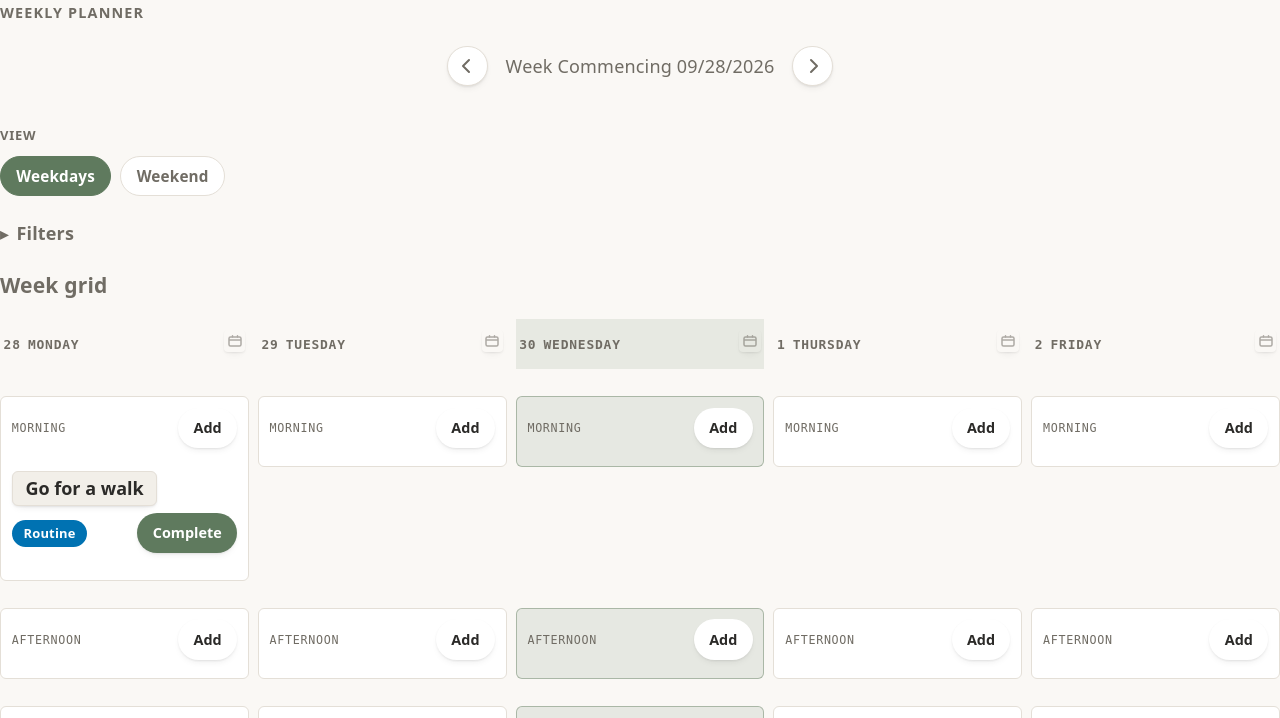
Scenario: WeeklyPlanner › FRONTEND-015-AC-04: moving an occurrence off-tab never auto-switches the active tab › stays on the Weekdays tab after moving an occurrence to Saturday
The width and height of the screenshot is (1280, 718).
Click the radio button labelled "Weekdays" at coordinates (56, 176), box [0,156,111,196]
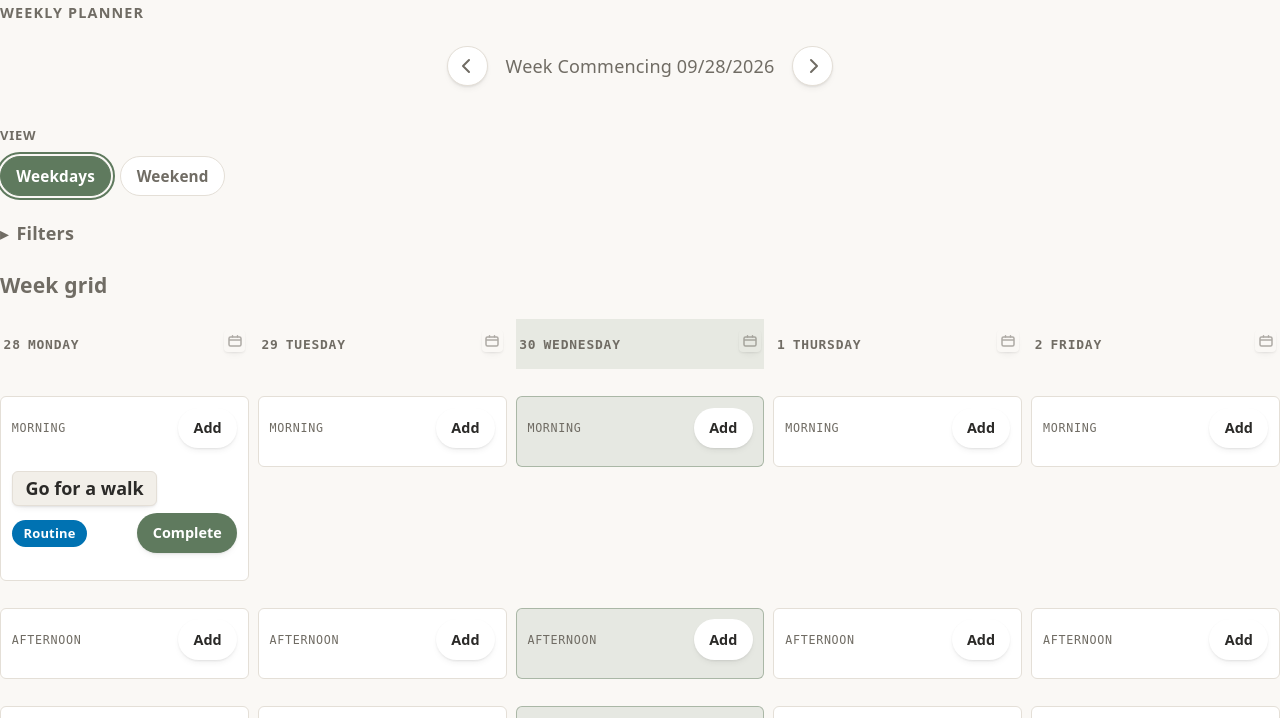
Click the button "Go for a walk" at coordinates (85, 488), box [12,470,157,506]
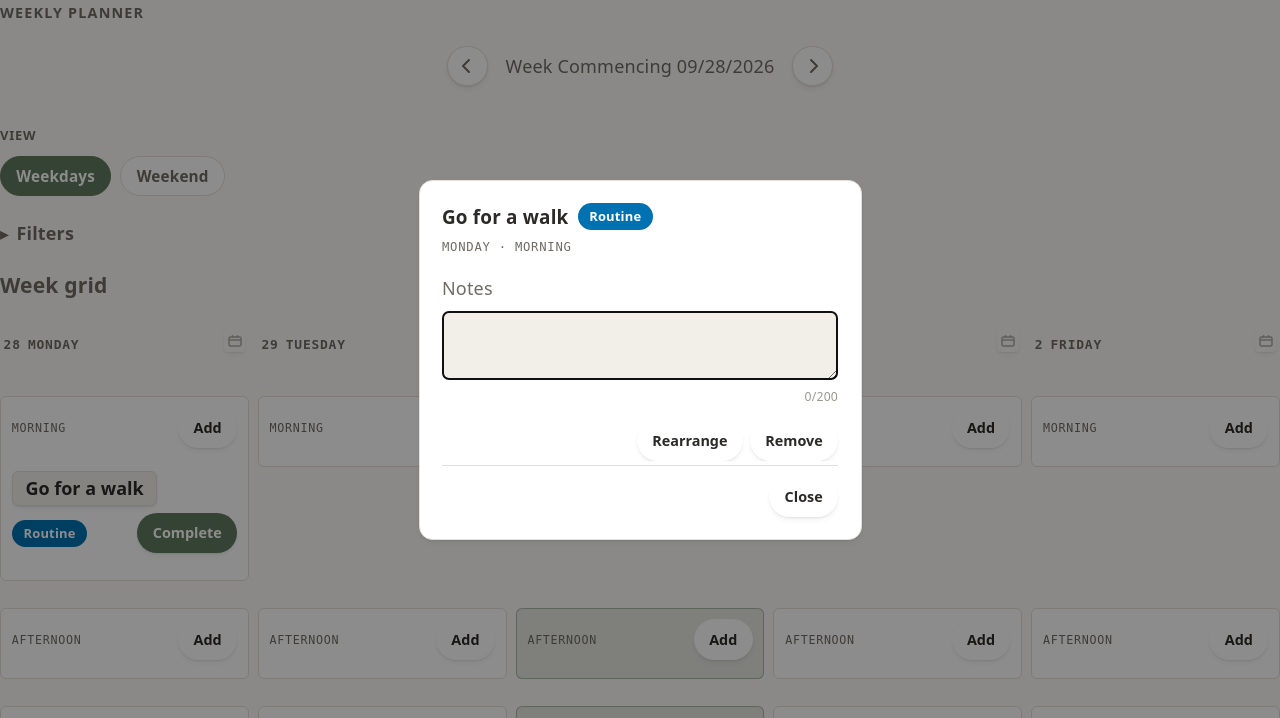
Click the button "Rearrange" at coordinates (690, 441), box [637,420,743,461]
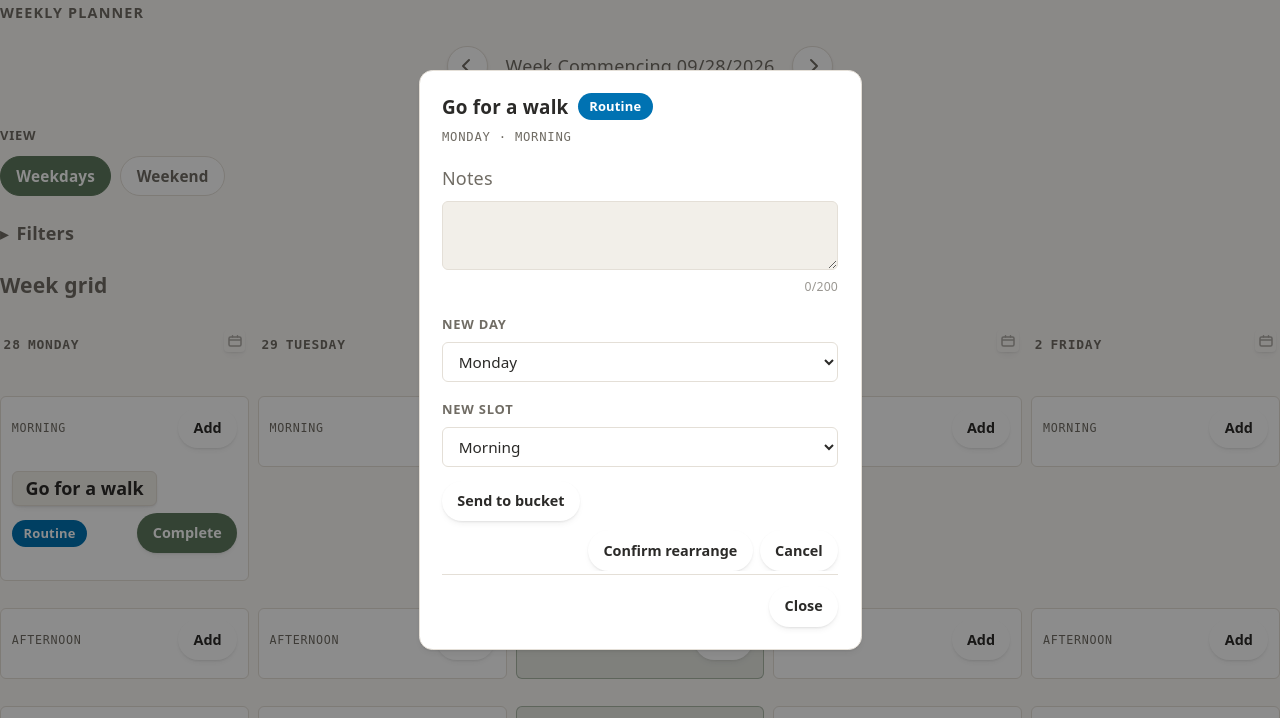
Select "Saturday" in the dropdown labelled "New day" at coordinates (640, 362), box [442,342,838,382]
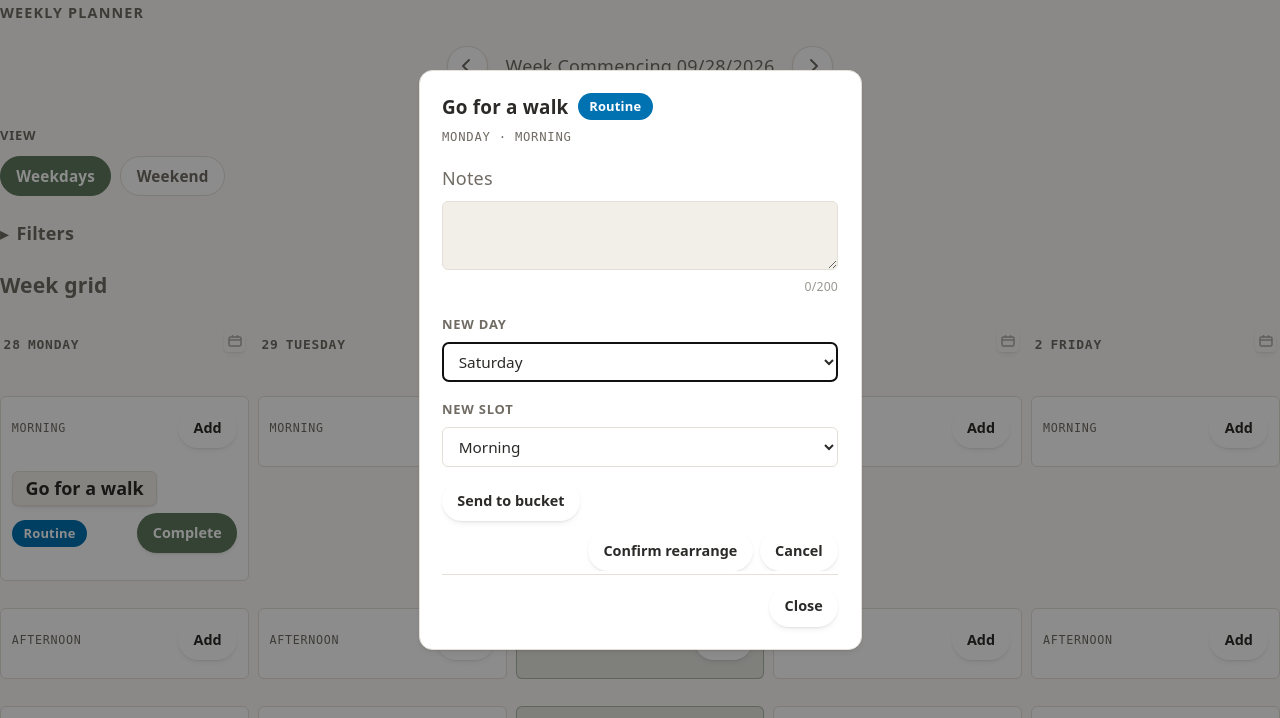
Click the button "Confirm rearrange" at coordinates (670, 551), box [588,530,753,571]
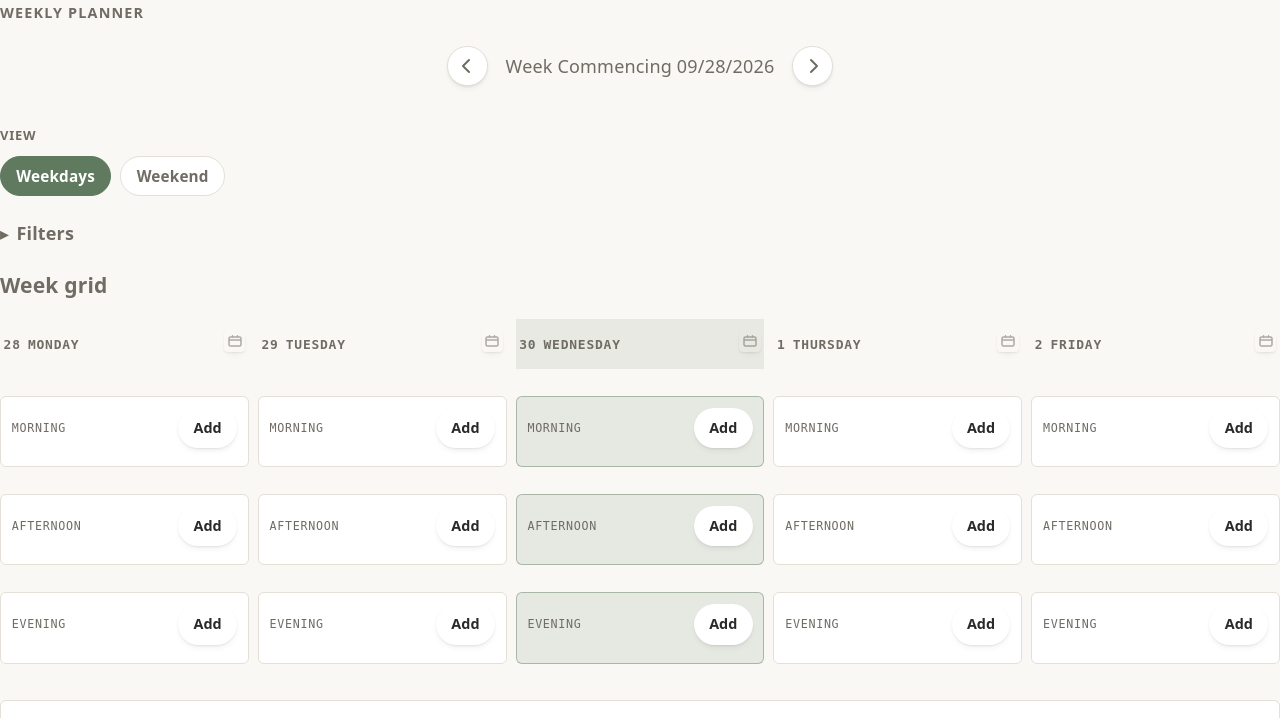
Expected: the radio button labelled "Weekdays" is checked, [0,156,111,196]
Expected: the button "Go for a walk" is gone
